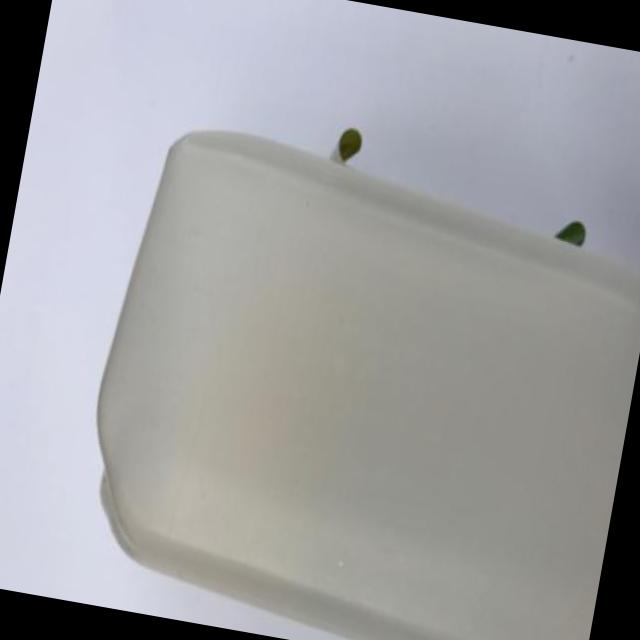Trash: (61, 91, 640, 640)
